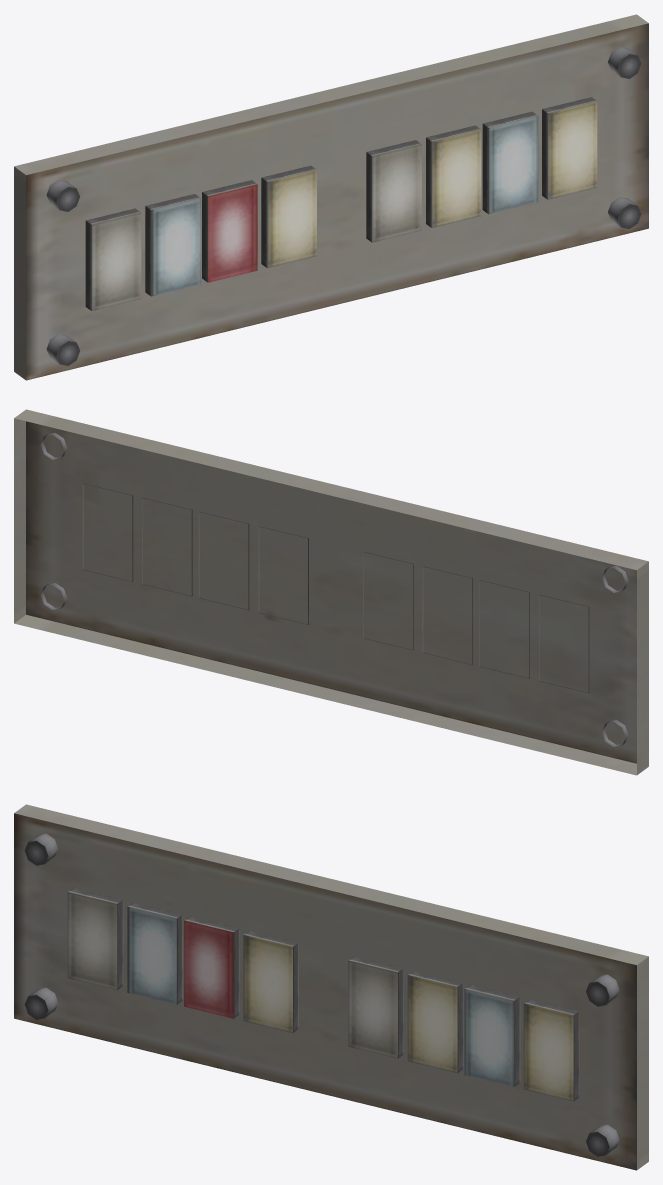
The model's file is ny_harbor_slava_interior_props_console_07_lod0.glb.
3 views of the same model, one above another, from view 1: azimuth 30°, elevation 25°; view 2: azimuth 150°, elevation 25°; view 3: azimuth 330°, elevation 25° (orthographic).
Parts seen in each view (by area): view 1: surf0; view 2: surf0; view 3: surf0.
Part boxes in pixels (left/top/right/bottom): surf0: left=14, top=14, right=648, bottom=380; surf0: left=14, top=409, right=648, bottom=775; surf0: left=14, top=804, right=648, bottom=1170.
Size of the model in its own units: 17.91 by 5.64 by 1.09.
